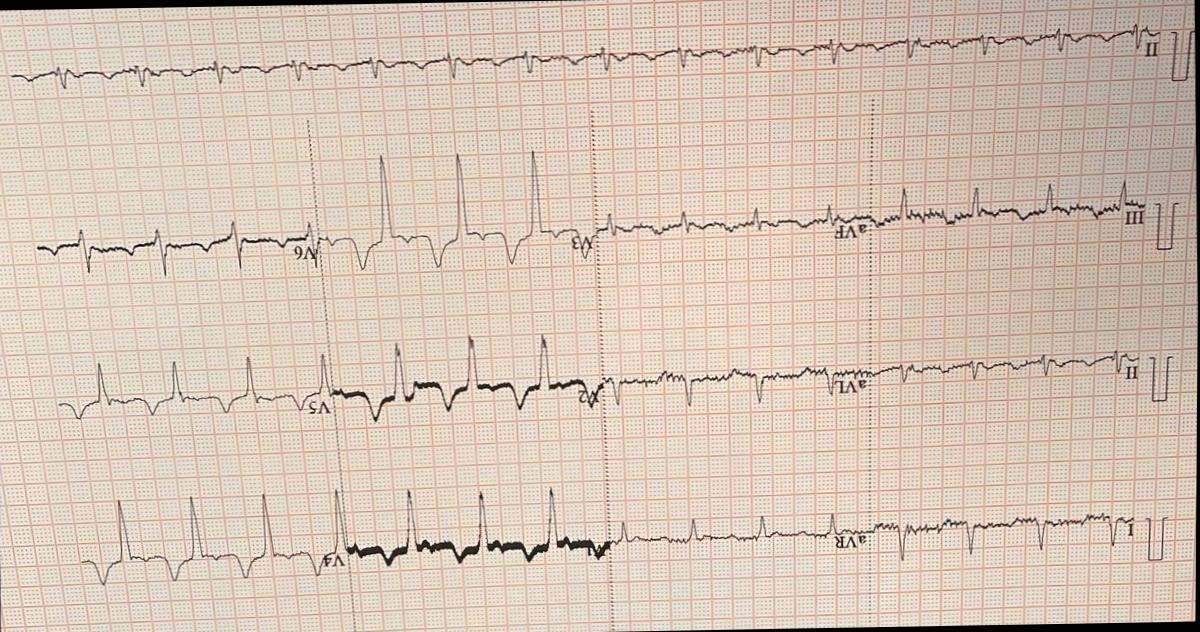Lead_I: (875, 489, 1145, 571)
Lead_II: (875, 334, 1149, 411)
Lead_III: (869, 169, 1154, 258)
Lead_II_ext: (1, 1, 1163, 114)
Lead_V1: (332, 461, 613, 593)
Lead_V2: (331, 326, 609, 430)
Lead_V3: (319, 133, 597, 281)
Lead_V4: (63, 472, 357, 612)
Lead_V5: (49, 346, 336, 442)
Lead_V6: (32, 202, 325, 294)
Lead_aVF: (591, 188, 871, 262)
Lead_aVL: (599, 350, 875, 416)
Lead_aVR: (613, 499, 876, 581)
